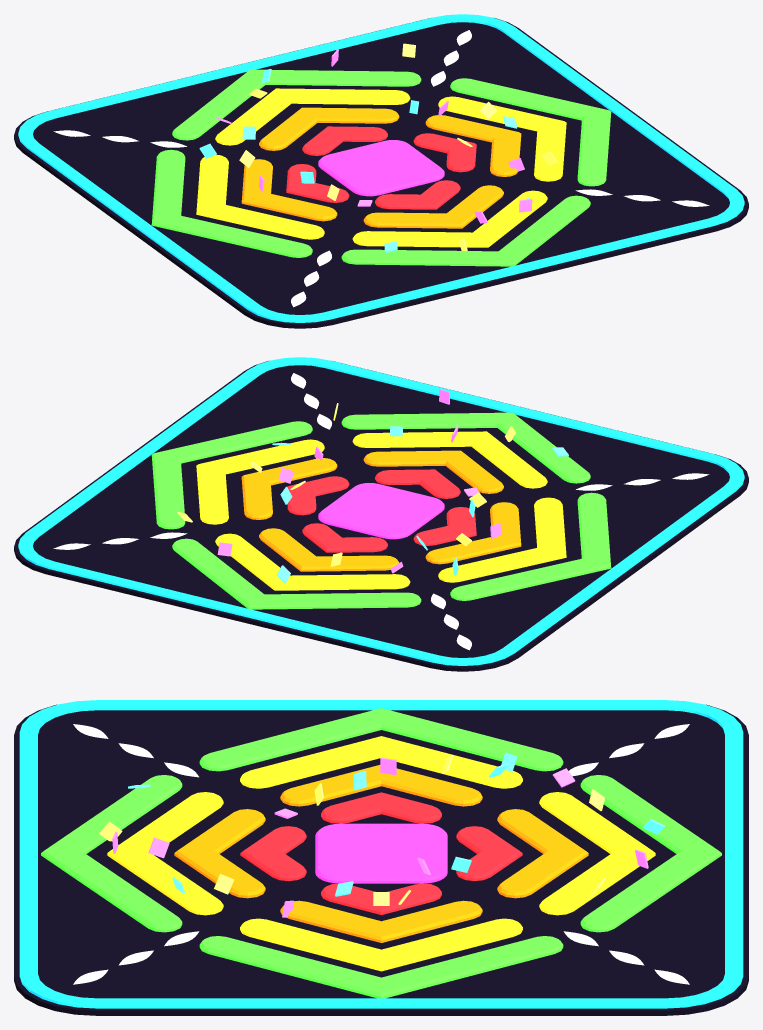
File: boost_panel.glb
3 renders of one model, top to bottom at view 1: azimuth 30°, elevation 25°; view 2: azimuth 150°, elevation 25°; view 3: azimuth 270°, elevation 25°, orthographic. The views are drawn at different scales.
Visible parts, largest first — view 1: Base, Wave4, Wave5, Wave3, Wave2, Wave1, Wave0, Spark0, Spark1, Spark2, Wind2, Wind0 (+1 smaller); view 2: Base, Wave4, Wave5, Wave3, Wave2, Wave1, Wave0, Spark2, Spark1, Spark0, Wind2, Wind0 (+1 smaller); view 3: Base, Wave4, Wave5, Wave3, Wave2, Wave1, Wave0, Spark2, Spark1, Spark0, Wind1, Wind2 (+1 smaller).
Part boxes in pixels (bbox=[...]): Base: bbox=[14, 18, 748, 328]; Wave4: bbox=[151, 69, 611, 266]; Wave5: bbox=[18, 14, 744, 322]; Wave3: bbox=[196, 88, 566, 247]; Wave2: bbox=[241, 107, 521, 228]; Wave1: bbox=[286, 126, 476, 209]; Wave0: bbox=[318, 140, 444, 196]; Spark0: bbox=[239, 43, 557, 251]; Spark1: bbox=[199, 69, 529, 252]; Spark2: bbox=[216, 49, 532, 223]; Wind2: bbox=[53, 30, 709, 307]; Wind0: bbox=[150, 71, 612, 266]; Base: bbox=[14, 361, 748, 671]; Wave4: bbox=[151, 412, 611, 609]; Wave5: bbox=[18, 357, 744, 665]; Wave3: bbox=[196, 431, 566, 590]; Wave2: bbox=[241, 450, 521, 571]; Wave1: bbox=[287, 469, 476, 552]; Wave0: bbox=[318, 483, 444, 539]; Spark2: bbox=[217, 389, 501, 573]; Spark1: bbox=[272, 426, 568, 583]; Spark0: bbox=[177, 403, 515, 566]; Wind2: bbox=[53, 373, 709, 650]; Wind0: bbox=[150, 414, 612, 609]; Base: bbox=[14, 704, 748, 1015]; Wave4: bbox=[41, 708, 721, 998]; Wave5: bbox=[19, 700, 743, 1008]; Wave3: bbox=[107, 736, 655, 971]; Wave2: bbox=[174, 765, 588, 942]; Wave1: bbox=[240, 792, 522, 914]; Wave0: bbox=[315, 823, 447, 883]; Spark2: bbox=[112, 757, 648, 917]; Spark1: bbox=[128, 752, 664, 896]; Spark0: bbox=[99, 755, 605, 905]; Wind1: bbox=[118, 743, 644, 965]; Wind2: bbox=[73, 724, 689, 984].
Size of the model in its own units: 8 by 0.6431 by 8.
